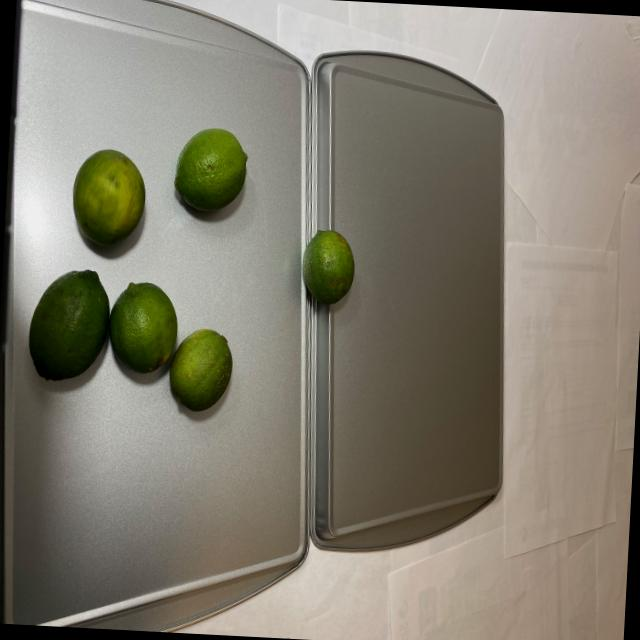lemon: (23, 112, 254, 439), (294, 226, 358, 312)
